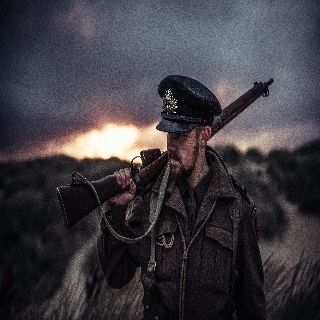rifle: (54, 77, 275, 229)
